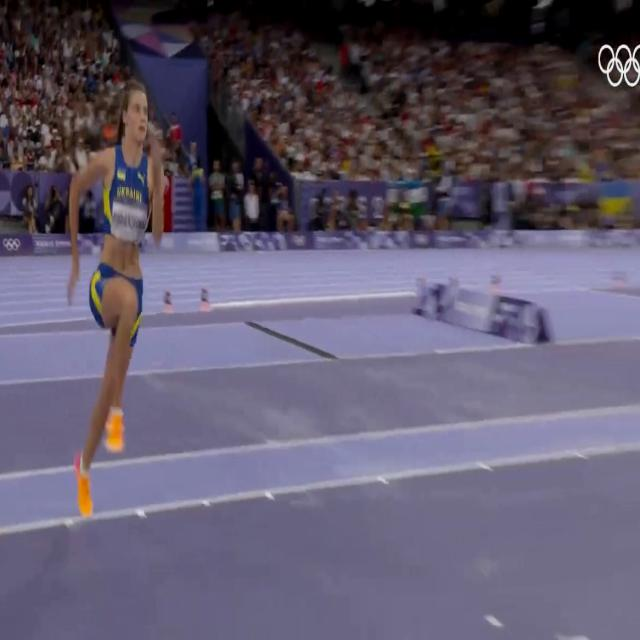run: (66, 78, 170, 522)
